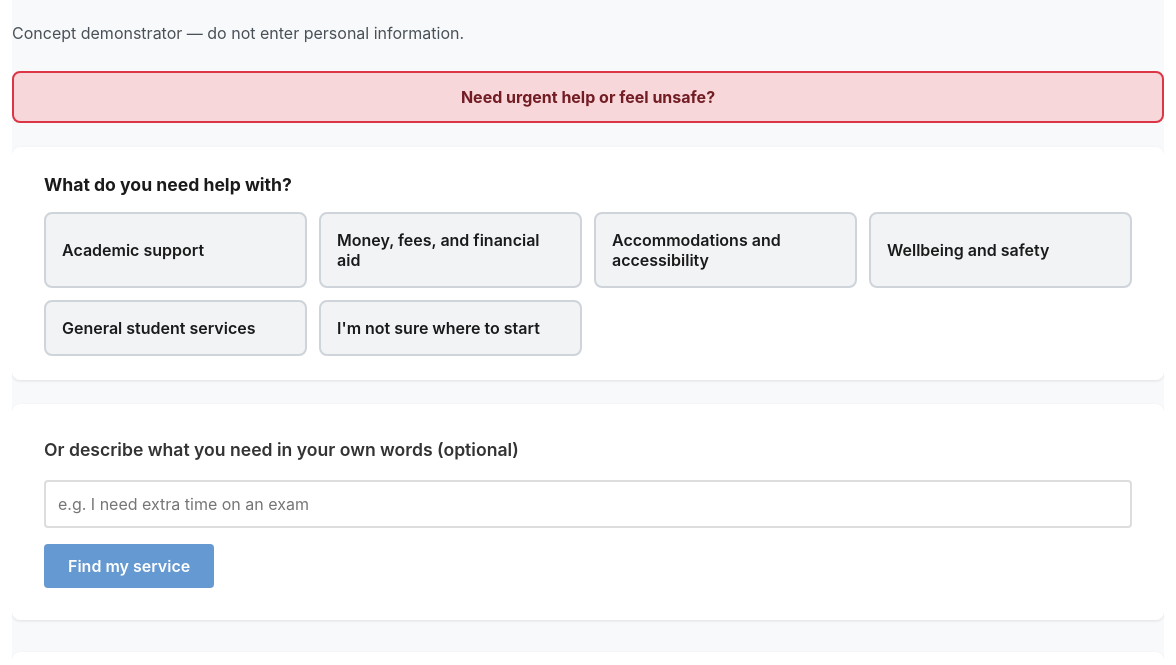
Scenario: Home page — resolution-first dual-entry UX › a guided_choice result shows fixed options, never a free-text loop (F-15)
This screenshot has width=1176, height=665.
Step 1. Click the button "I'm not sure where to start" → click(450, 328), box [319,300,582,356]
(page scrolled)
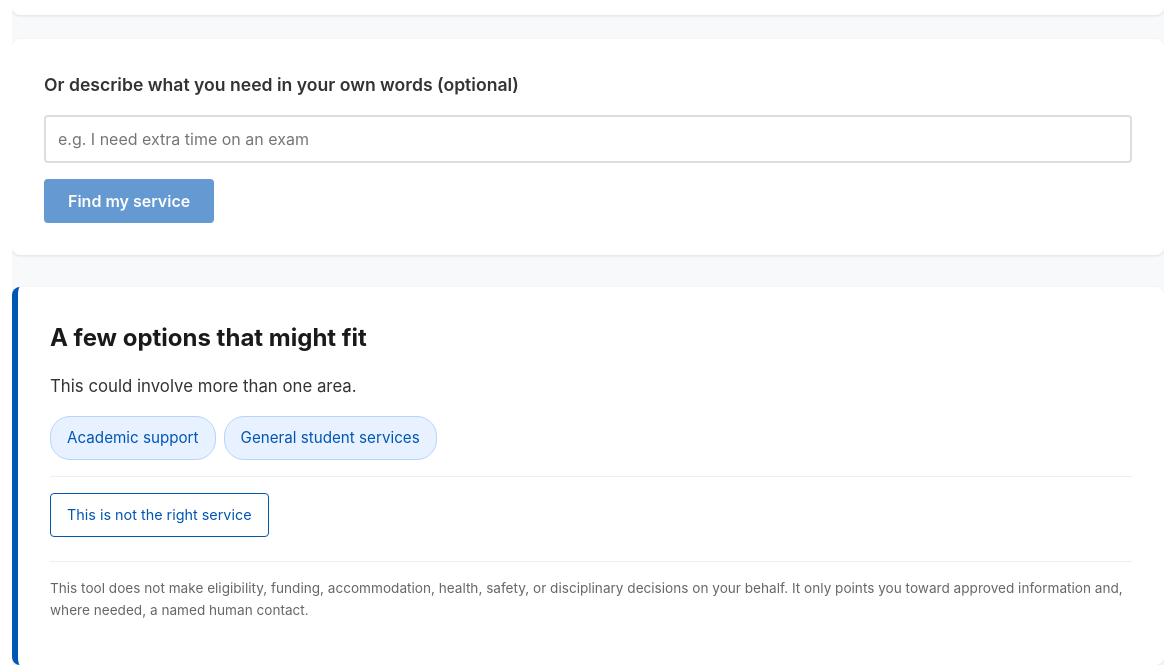
Now the text "This could involve more than one area." is shown, box [50,376,357,396]
